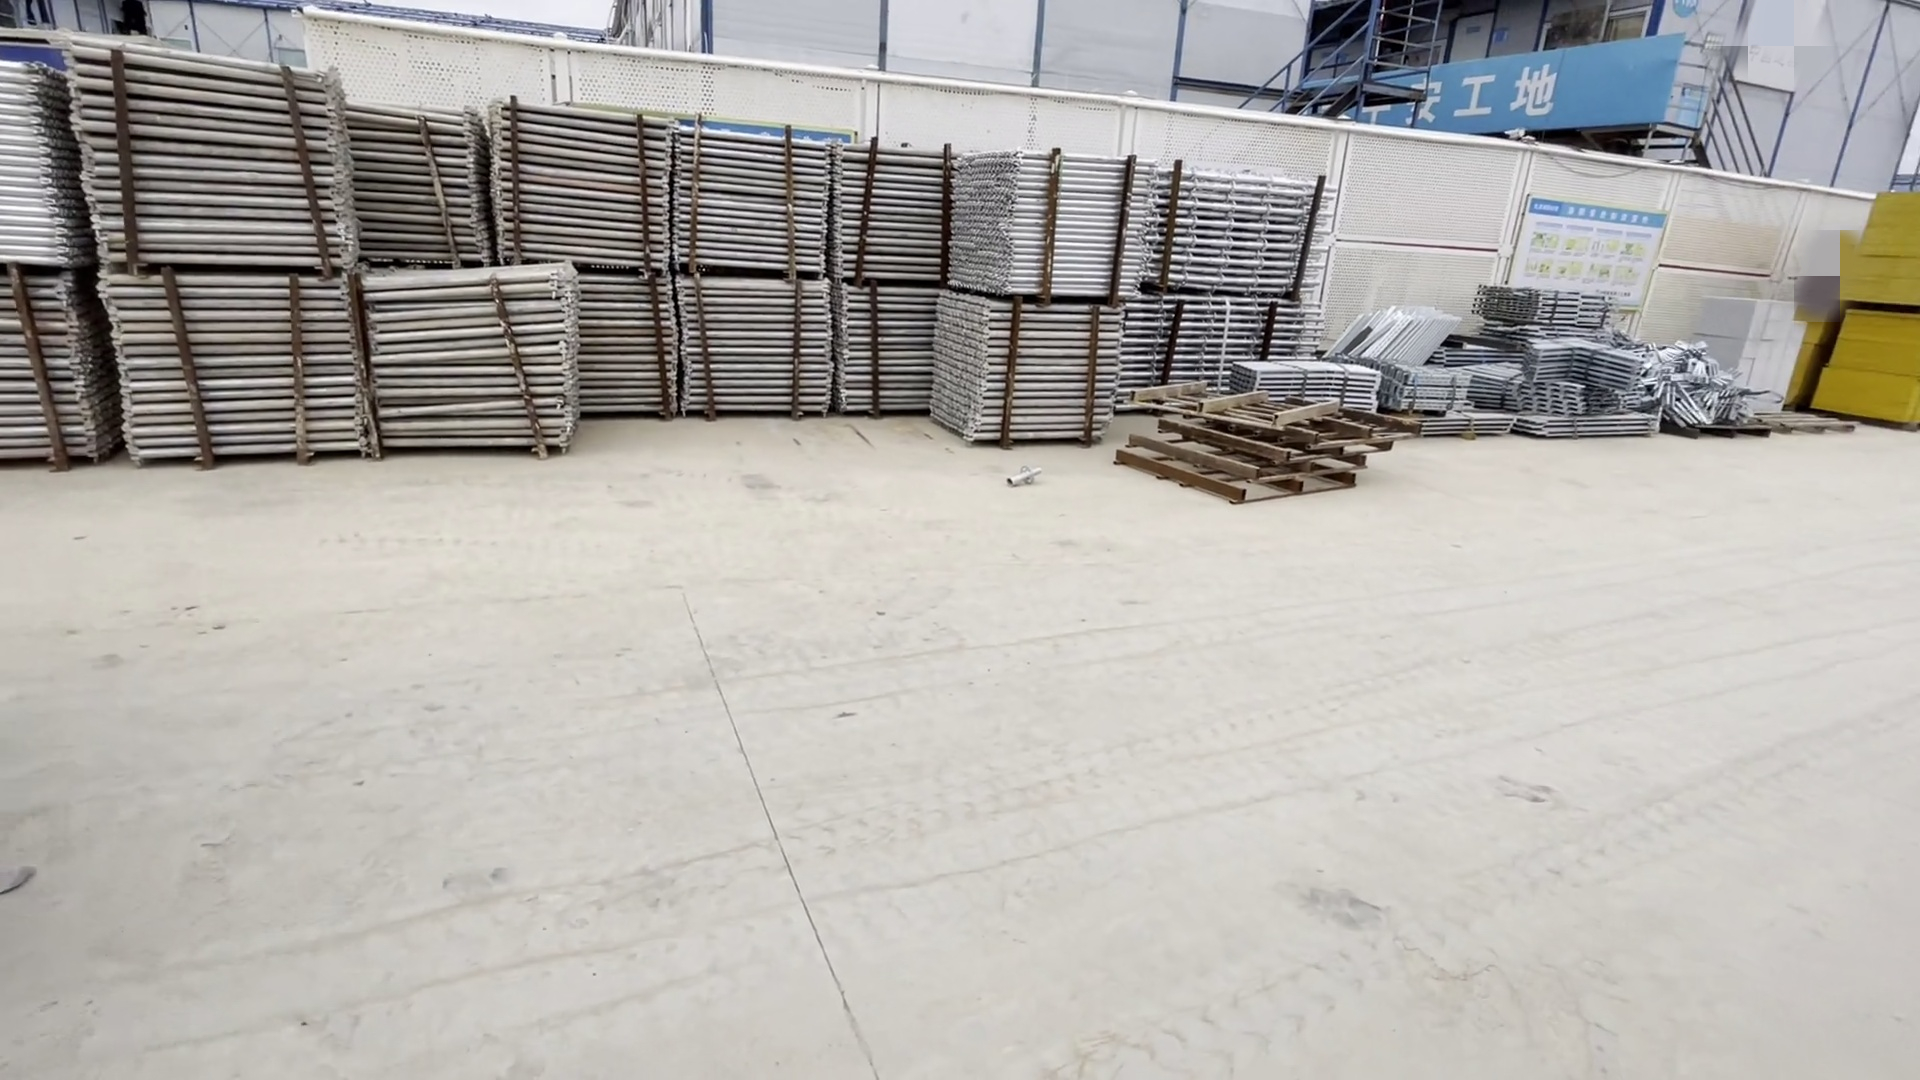scaffold: (11, 51, 1323, 469), (1319, 268, 1782, 468)
